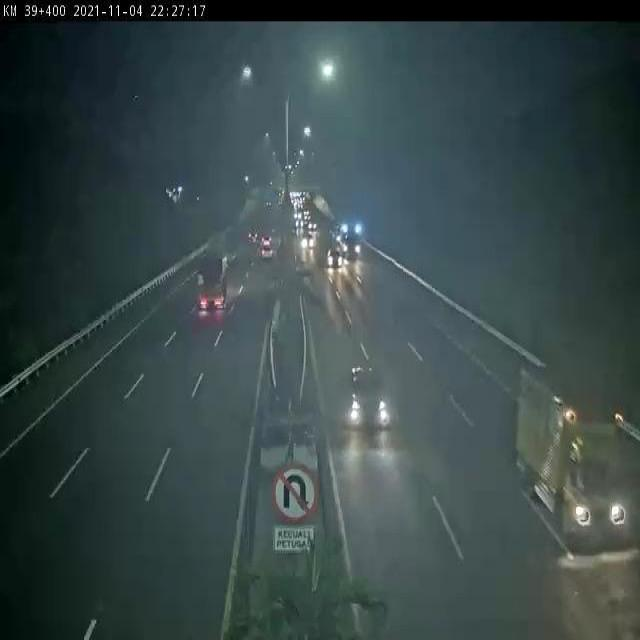car: (346, 360, 387, 428), (259, 245, 275, 264)
truck-m-: (514, 362, 631, 542), (199, 257, 229, 312)
